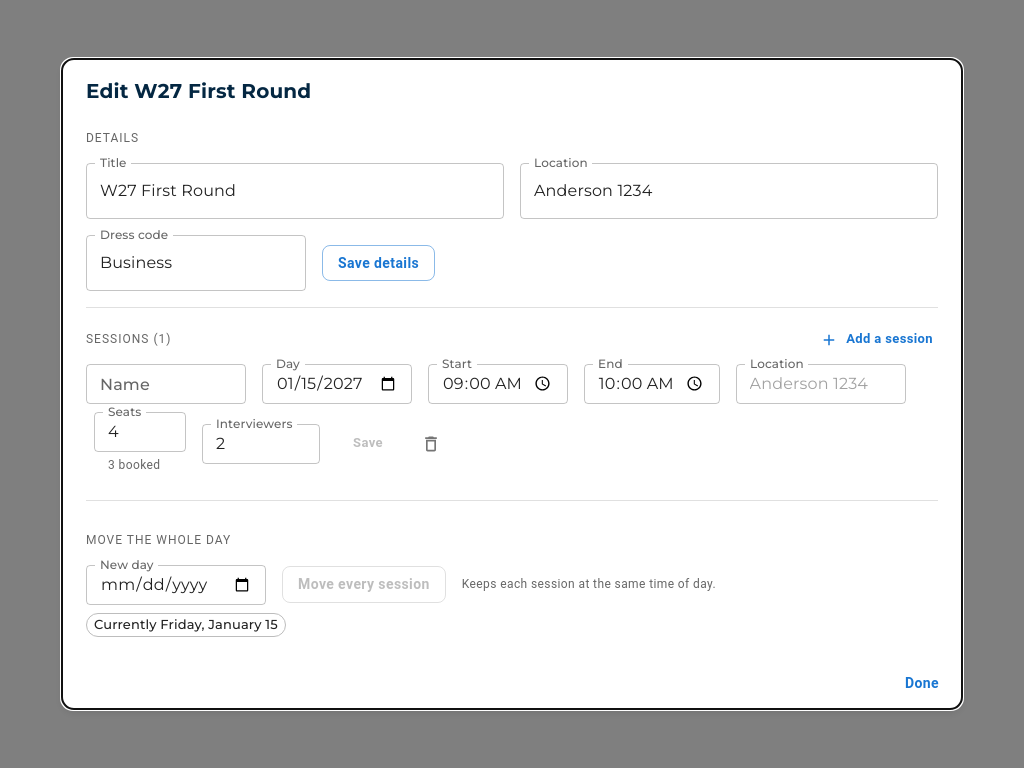
Test: InterviewEditDialog › warns when seats are cut below the people already booked
Replace the text in the number field labelled "Seats" with "2" at {"x": 140, "y": 432}, box x1=94 y1=412 x2=186 y2=452
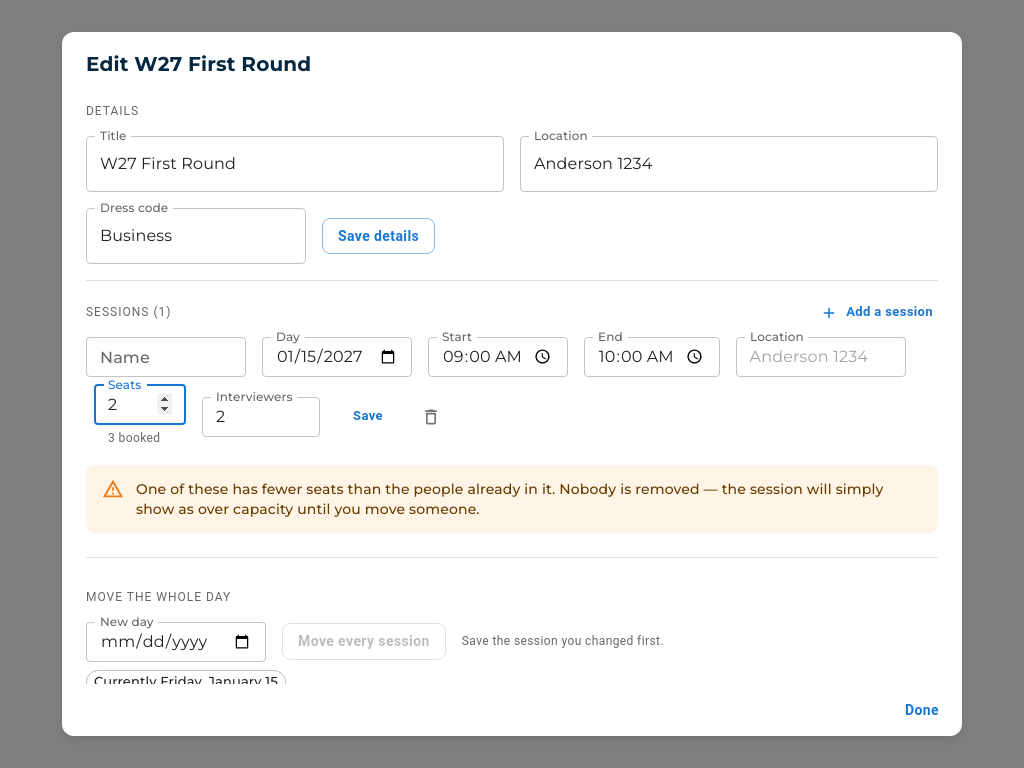
Check: the text "fewer seats than the people already in it" is shown, box x1=136 y1=480 x2=884 y2=518
